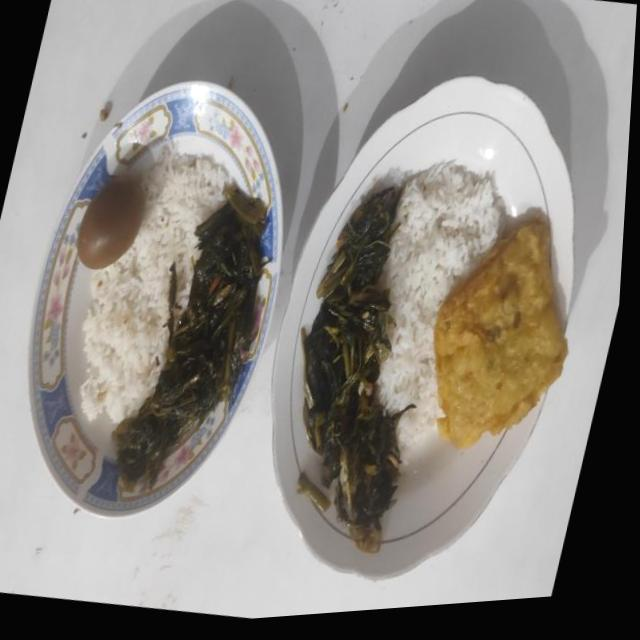nasi_putih: (80, 149, 228, 422), (377, 162, 502, 448)
tumis_kangkung: (112, 186, 271, 489), (300, 187, 414, 552)
